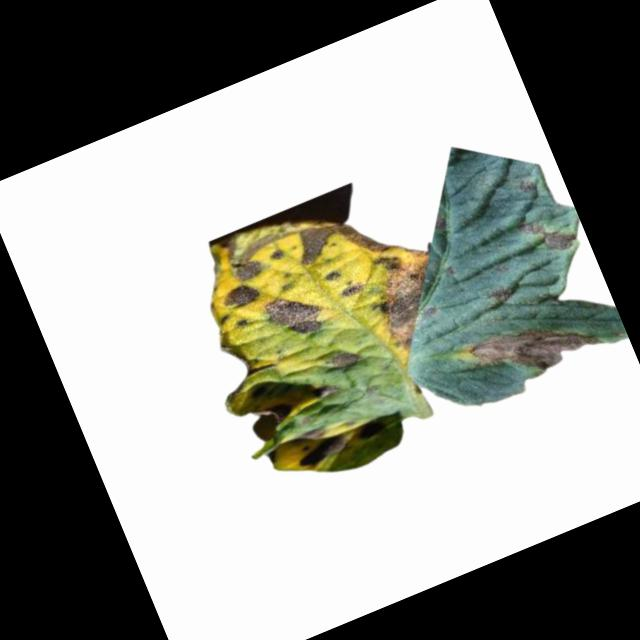Early_blight: (463, 296, 604, 395), (359, 235, 469, 355), (287, 194, 405, 285), (219, 221, 295, 282), (259, 282, 328, 347), (516, 204, 581, 265), (297, 432, 350, 469), (220, 276, 266, 315), (326, 341, 364, 375), (487, 277, 515, 303), (338, 275, 367, 300)
